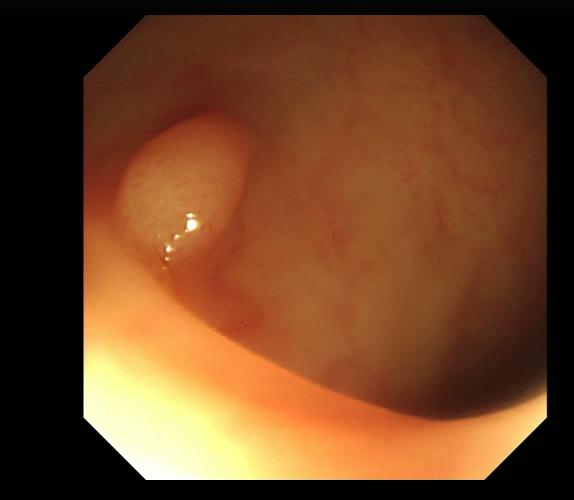polyp: (112, 111, 251, 260)
